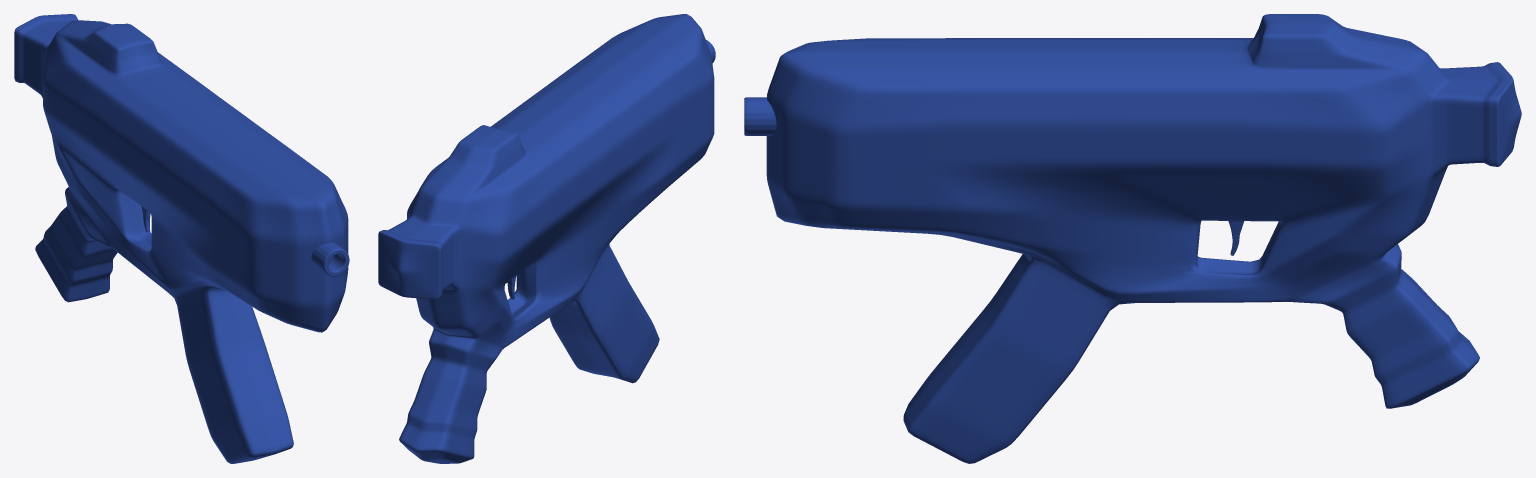
The model's file is SMG_Blue.fbx.
3 renders of one model, left to right at view 1: azimuth 30°, elevation 25°; view 2: azimuth 150°, elevation 25°; view 3: azimuth 270°, elevation 25°, orthographic. The views are drawn at different scales.
Parts seen in each view (by area): view 1: pCube2; view 2: pCube2; view 3: pCube2.
Part boxes in pixels (box(x1,y1,x2,y2)): pCube2: box(14, 14, 349, 463); pCube2: box(378, 14, 715, 463); pCube2: box(744, 14, 1521, 463).
Size of the model in its own units: 4.12 by 13.38 by 22.
